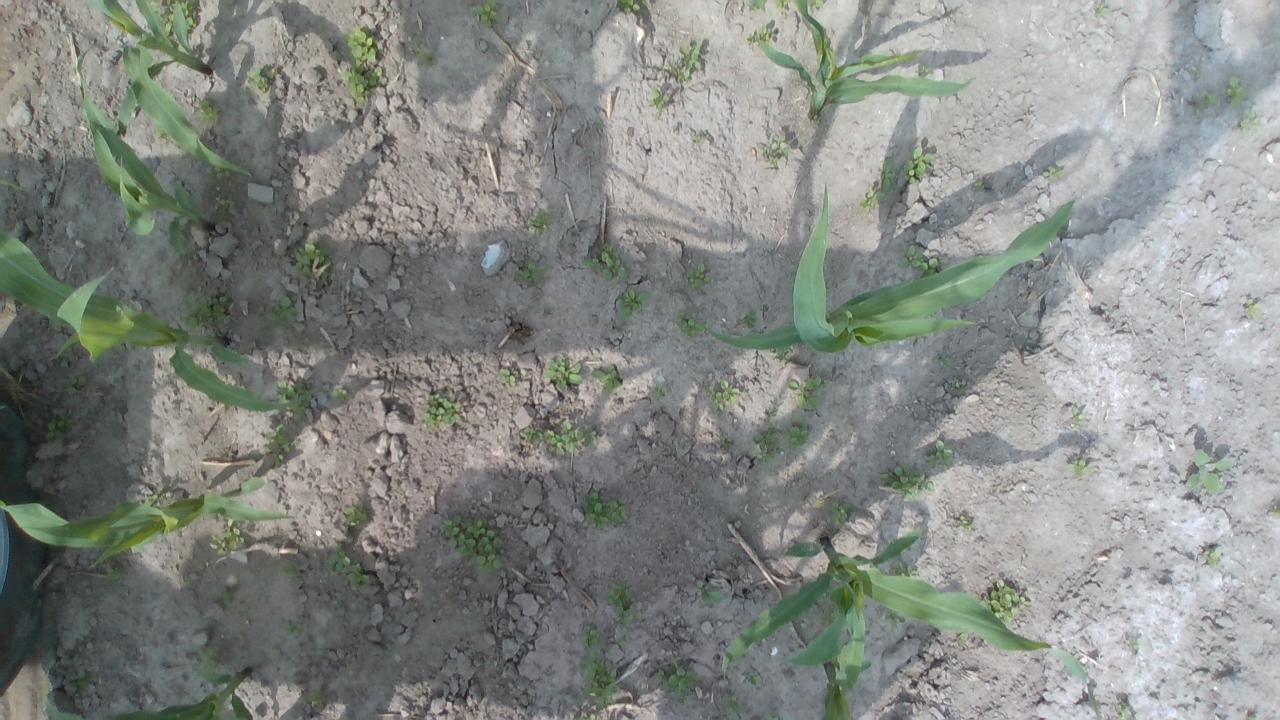Maize: (722, 526, 1101, 720), (704, 178, 1076, 354), (0, 232, 311, 415), (84, 0, 252, 179), (76, 50, 216, 257), (0, 475, 298, 569), (755, 0, 975, 117), (44, 663, 254, 720), (818, 656, 872, 720)
Weeds: (440, 514, 506, 574), (341, 25, 381, 108), (980, 579, 1032, 626), (1184, 447, 1232, 496), (578, 650, 620, 706), (879, 462, 934, 502), (582, 490, 629, 531), (178, 294, 230, 330), (328, 546, 370, 590), (152, 0, 198, 39), (584, 242, 630, 280), (898, 245, 946, 278), (654, 662, 694, 701), (788, 375, 832, 410), (664, 43, 704, 81), (276, 380, 314, 420), (294, 241, 332, 279), (422, 391, 461, 428), (606, 582, 640, 624), (544, 421, 583, 456), (210, 518, 244, 556), (546, 356, 584, 390), (903, 146, 935, 184), (266, 423, 294, 466), (756, 134, 790, 168), (706, 379, 741, 412), (754, 428, 782, 464), (247, 63, 279, 94), (266, 296, 296, 328), (516, 260, 550, 288), (618, 291, 650, 320), (785, 413, 810, 449), (676, 310, 706, 338), (594, 364, 622, 394), (1222, 76, 1248, 108), (46, 415, 73, 444), (528, 209, 555, 238), (472, 0, 500, 27), (928, 439, 953, 469), (696, 579, 724, 605), (859, 188, 886, 214), (196, 99, 222, 126), (686, 262, 711, 290), (344, 501, 369, 526), (198, 644, 220, 672), (830, 501, 854, 526), (769, 342, 794, 366), (647, 86, 669, 113), (878, 160, 896, 192), (68, 670, 92, 694), (306, 684, 330, 708), (745, 24, 771, 46), (1065, 459, 1093, 478), (415, 43, 435, 68), (142, 488, 168, 507), (1202, 544, 1222, 568), (64, 373, 85, 395), (885, 608, 905, 631), (738, 306, 758, 329), (496, 368, 519, 388), (1240, 110, 1260, 132), (1243, 298, 1264, 318), (104, 562, 126, 581), (892, 562, 918, 578), (580, 624, 598, 647), (722, 694, 742, 714), (1196, 95, 1216, 115), (819, 605, 838, 625), (522, 427, 544, 444), (615, 0, 641, 14), (154, 127, 173, 145), (332, 384, 350, 403), (1070, 406, 1085, 427), (281, 562, 303, 576), (956, 515, 974, 532), (283, 621, 304, 635), (1040, 166, 1064, 178), (746, 0, 769, 12), (952, 378, 968, 395), (933, 354, 952, 368), (1114, 704, 1130, 720), (916, 63, 933, 78), (584, 428, 598, 446), (764, 407, 777, 426), (214, 166, 231, 180), (654, 383, 668, 400), (720, 436, 735, 450), (1095, 2, 1110, 16), (772, 0, 791, 11), (807, 0, 823, 13), (218, 197, 238, 207), (746, 674, 760, 686), (576, 713, 598, 720), (816, 498, 830, 509), (957, 632, 967, 646), (619, 634, 631, 645), (222, 590, 232, 603), (972, 180, 984, 190), (1130, 638, 1138, 650), (766, 714, 780, 720), (1273, 507, 1280, 519), (692, 136, 702, 142), (640, 0, 650, 6), (1250, 716, 1260, 720)
